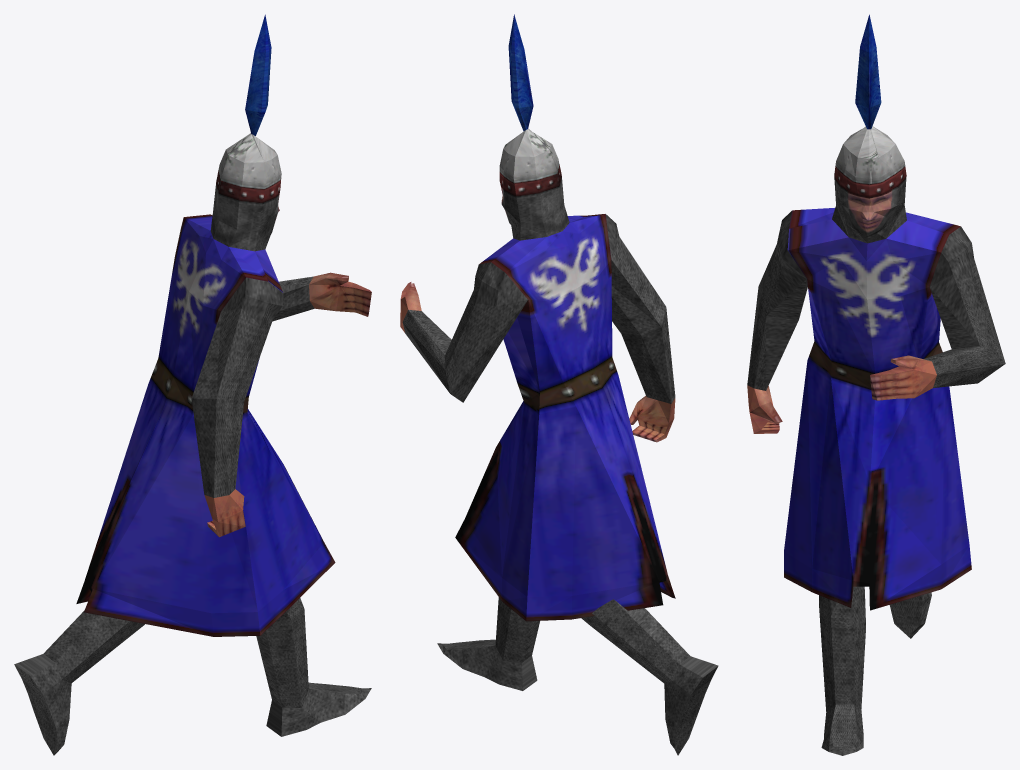
File: guard_run1.obj
3 views of the same model, side by side, from view 1: azimuth 30°, elevation 25°; view 2: azimuth 150°, elevation 25°; view 3: azimuth 270°, elevation 25° (orthographic). The views are drawn at different scales.
Visible parts, largest first — view 1: Object_1; view 2: Object_1; view 3: Object_1.
Part boxes in pixels (x1,y1,x2,y2): Object_1: (14,14,371,755); Object_1: (400,14,718,755); Object_1: (747,14,1005,755).
Bounding box in the file's own units: 1.06 × 2.17 × 0.7072.
Materials: 1 (1 with a texture image).
